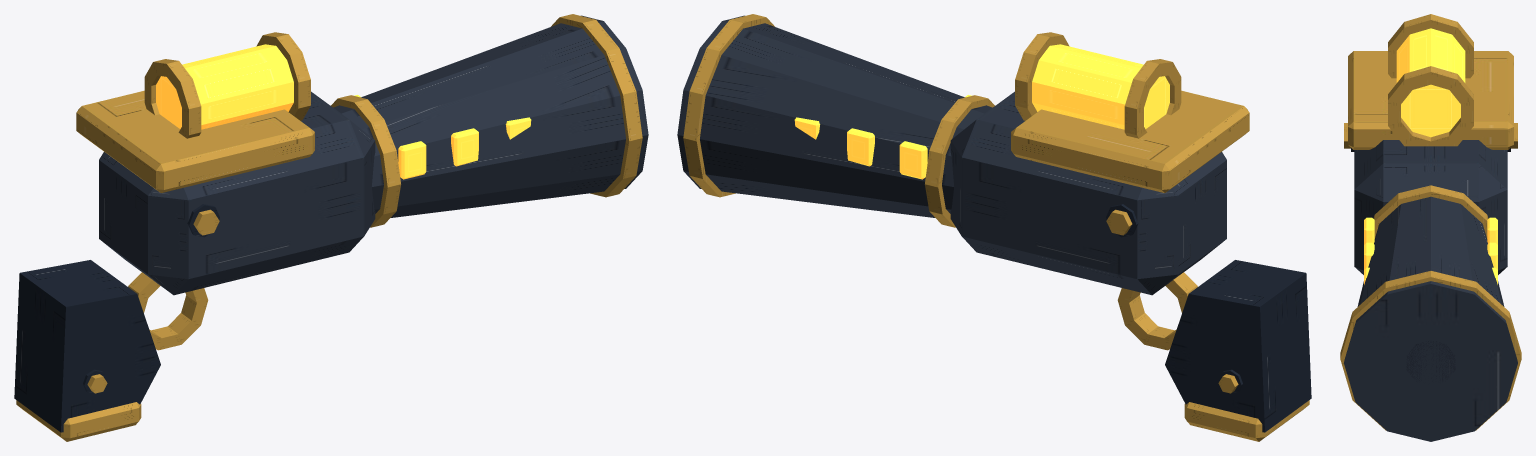
The model's file is embercaster.glb.
3 views of the same model, side by side, from view 1: azimuth 30°, elevation 25°; view 2: azimuth 150°, elevation 25°; view 3: azimuth 270°, elevation 25° (orthographic). The views are drawn at different scales.
Visible parts, largest first — view 1: body, barrel, grip, core; view 2: body, barrel, grip, core; view 3: barrel, body, core.
Boxes of the visible parts, box(x1,y1,x2,y2) form: body: box(76, 90, 375, 350); barrel: box(331, 14, 648, 227); grip: box(14, 260, 160, 441); core: box(144, 32, 310, 138); body: box(950, 90, 1249, 350); barrel: box(677, 14, 994, 227); grip: box(1165, 260, 1311, 441); core: box(1015, 32, 1181, 138); barrel: box(1340, 185, 1521, 441); body: box(1344, 51, 1517, 274); core: box(1388, 14, 1473, 146).
Bounding box in the file's own units: 0.548 × 0.307 × 0.156.
Materials: 4 (4 with a texture image).
